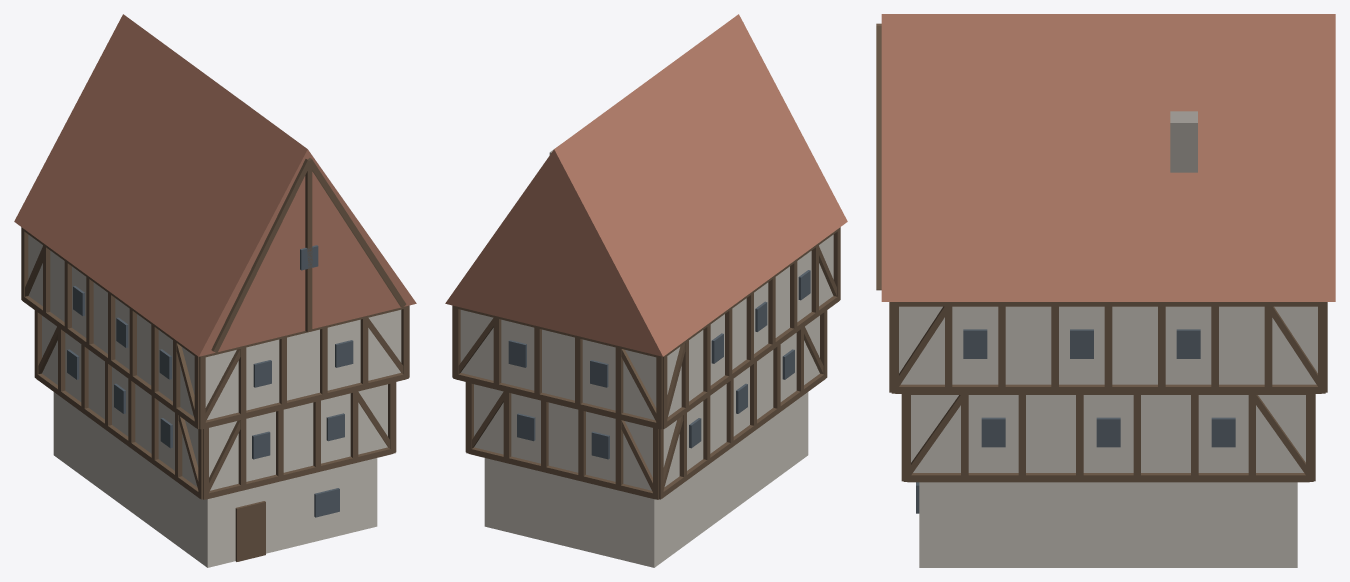
File: m_haus_b.glb
The picture shows the model from 3 angles, left to right: view 1: azimuth 30°, elevation 25°; view 2: azimuth 150°, elevation 25°; view 3: azimuth 270°, elevation 25°; orthographic projection. The views are drawn at different scales.
Parts seen in each view (by area): view 1: koerper; view 2: koerper; view 3: koerper.
Part boxes in pixels (x1=…): koerper: x1=14, y1=14, x2=416, y2=567; koerper: x1=445, y1=14, x2=847, y2=567; koerper: x1=876, y1=14, x2=1335, y2=567.
Size of the model in its own units: 9 by 16.14 by 13.35.
